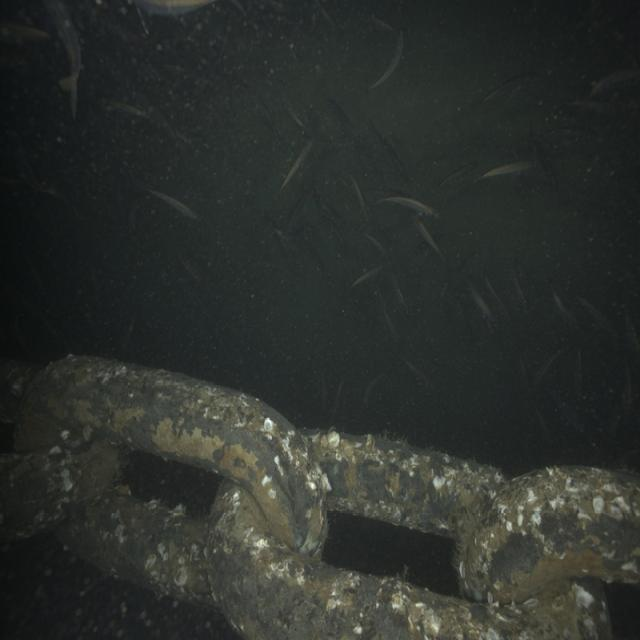ChainLink: (208, 482, 609, 639), (16, 357, 326, 555), (458, 468, 640, 603), (306, 431, 505, 536), (55, 491, 212, 604), (0, 426, 118, 541), (0, 361, 38, 421)
